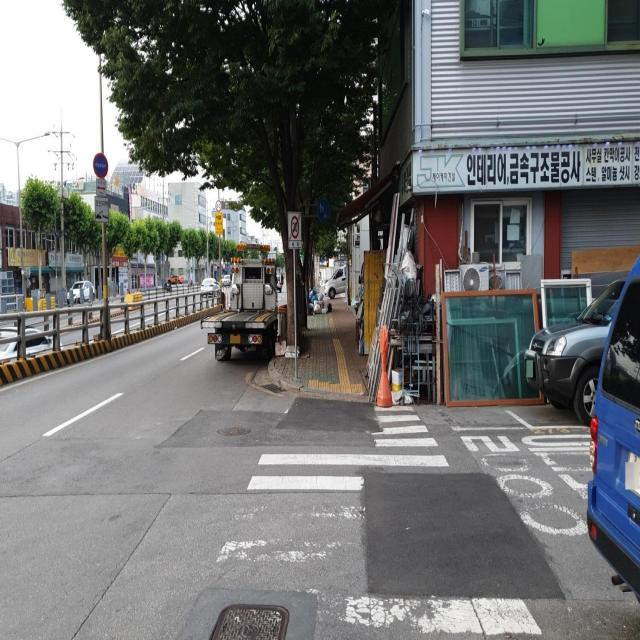횡단보도: (216, 404, 543, 637)
